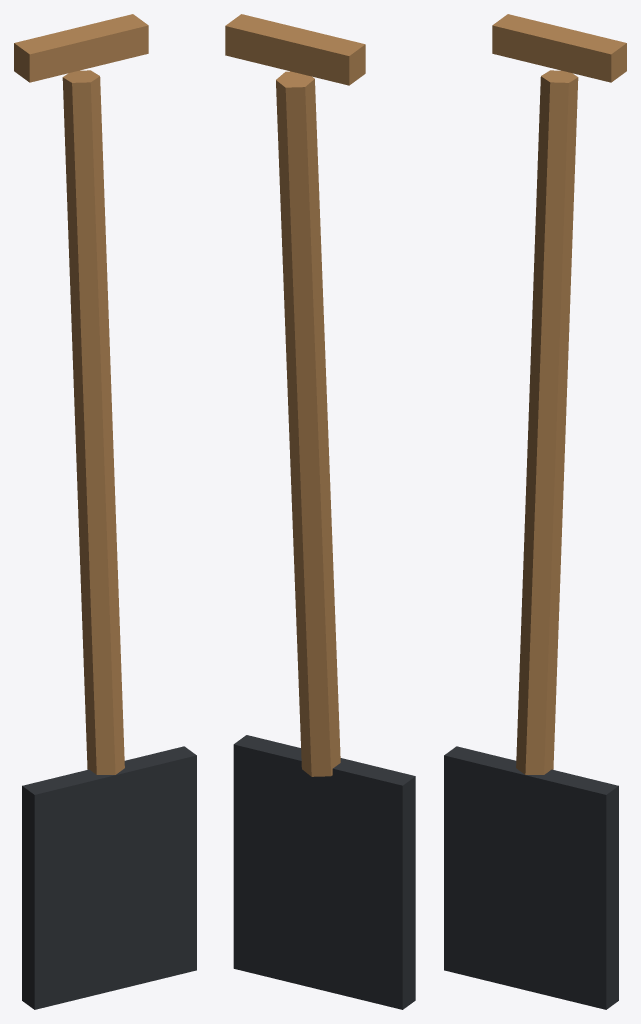
File: Shovel.fbx
3 views of the same model, side by side, from view 1: azimuth 30°, elevation 25°; view 2: azimuth 150°, elevation 25°; view 3: azimuth 330°, elevation 25° (orthographic). The views are drawn at different scales.
Visible parts, largest first — view 1: Tool; view 2: Tool; view 3: Tool.
Part boxes in pixels (x1=…): Tool: x1=14, y1=14, x2=196, y2=1009; Tool: x1=225, y1=14, x2=415, y2=1009; Tool: x1=444, y1=14, x2=626, y2=1009.
Size of the model in its own units: 0.3 by 1.64 by 0.1399.
